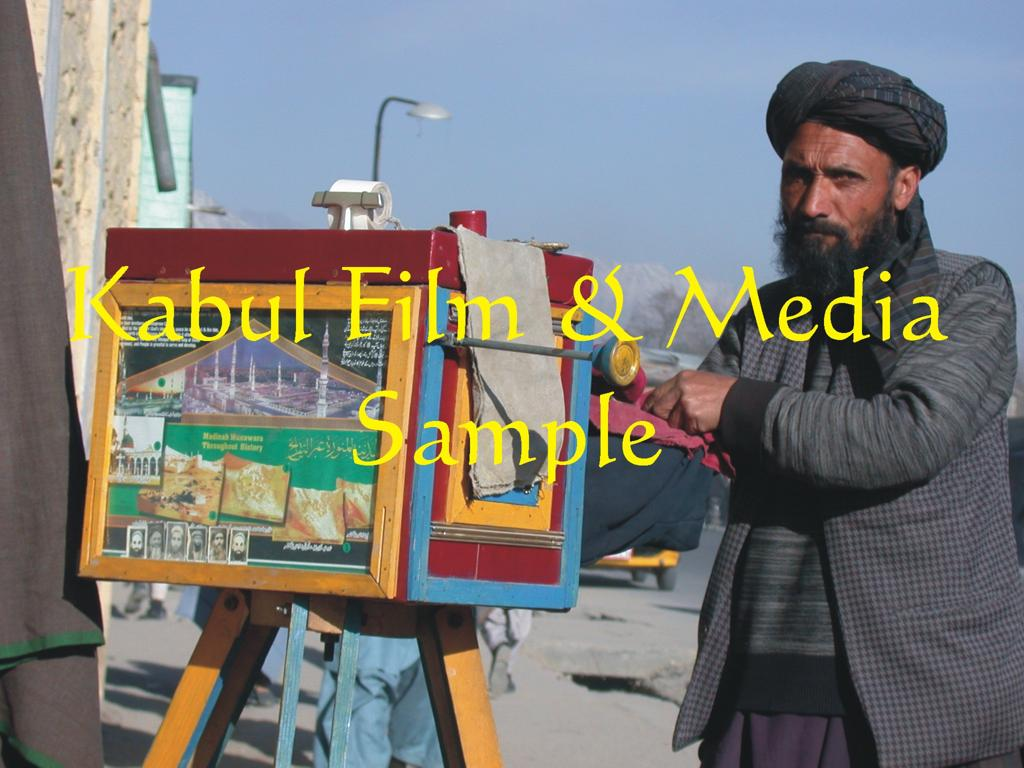face: (782, 116, 888, 266)
